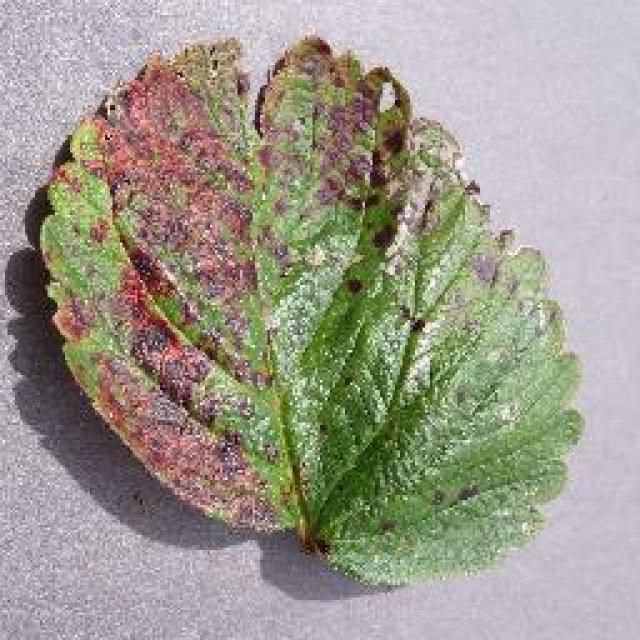Strawberry leaf scorch: (105, 95, 505, 528)
